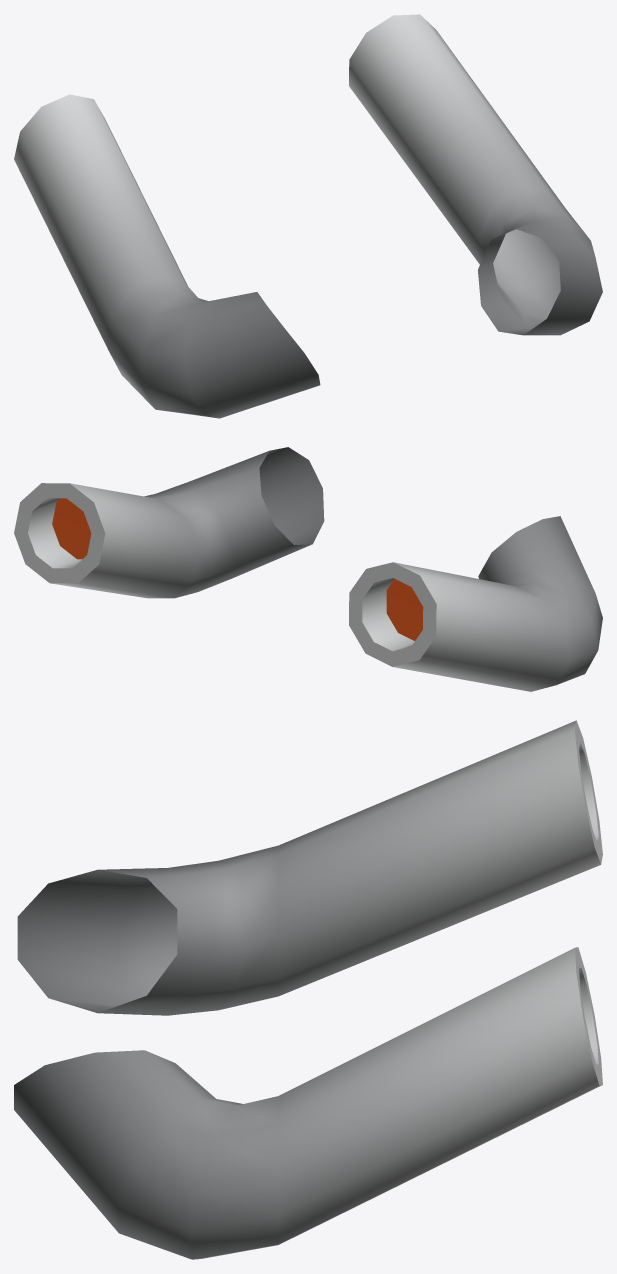
Rendered from Car_11_Pipe_Simple.fbx.
3 views of the same model, one above another, from view 1: azimuth 30°, elevation 25°; view 2: azimuth 150°, elevation 25°; view 3: azimuth 270°, elevation 25° (orthographic). The views are drawn at different scales.
Visible parts, largest first — view 1: Car_11_Pipe_Simple; view 2: Car_11_Pipe_Simple; view 3: Car_11_Pipe_Simple.
Part boxes in pixels (x1,y1,x2,y2): Car_11_Pipe_Simple: (14,14,602,418); Car_11_Pipe_Simple: (14,447,602,691); Car_11_Pipe_Simple: (14,720,602,1259).
Bounding box in the file's own units: 90.09 × 72.44 × 39.65.
